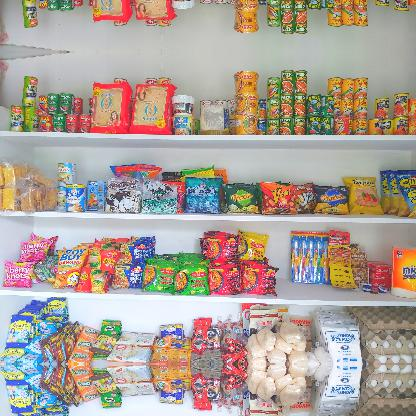Lady-s-Choice: (198, 105, 230, 135)
